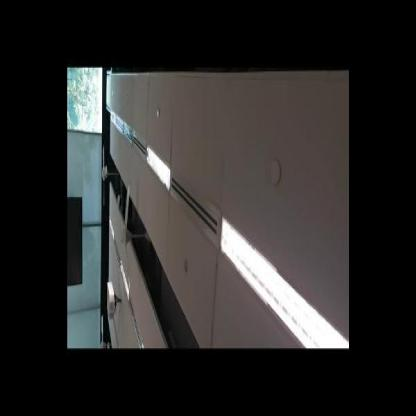light_on: (215, 209, 348, 348), (142, 140, 176, 196), (117, 249, 135, 305), (108, 211, 115, 244)
